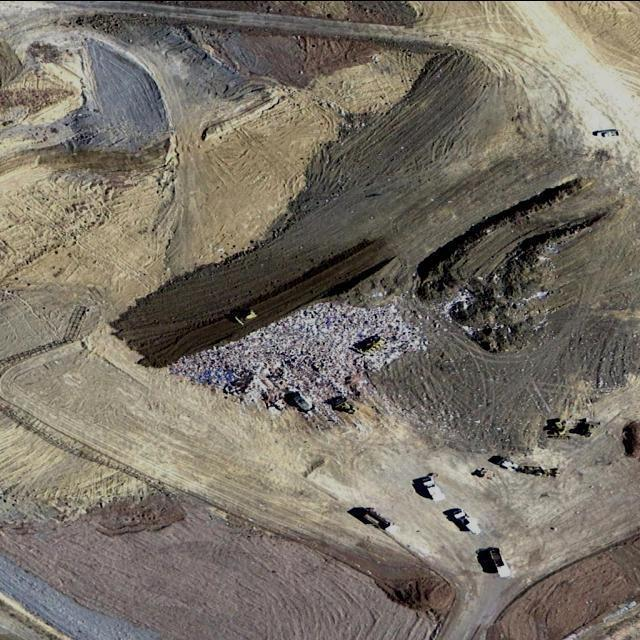dump_site: (168, 270, 445, 437)
